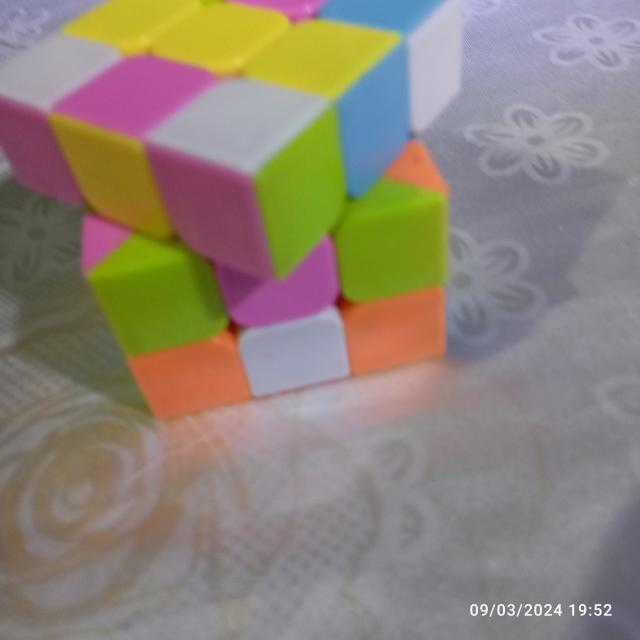Rub: (0, 0, 466, 425)
